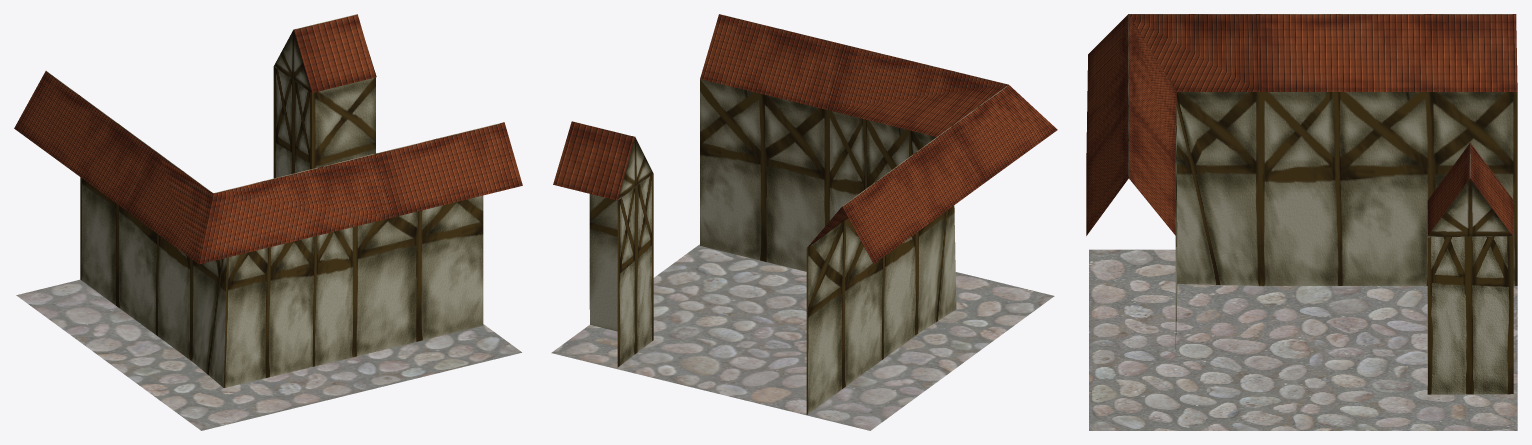
Rendered from 3-5_Wall_Turn_v1.fbx.
The picture shows the model from 3 angles, left to right: view 1: azimuth 30°, elevation 25°; view 2: azimuth 150°, elevation 25°; view 3: azimuth 270°, elevation 25°; orthographic projection. The views are drawn at different scales.
Visible parts, largest first — view 1: Wall_turn_v1; view 2: Wall_turn_v1; view 3: Wall_turn_v1.
Boxes of the visible parts, x1,y1,x2,y2 form: Wall_turn_v1: (14,14,522,430); Wall_turn_v1: (551,14,1057,430); Wall_turn_v1: (1086,14,1517,430).
Bounding box in the file's own units: 101 × 64.88 × 101.
2 materials, 2 textured.
